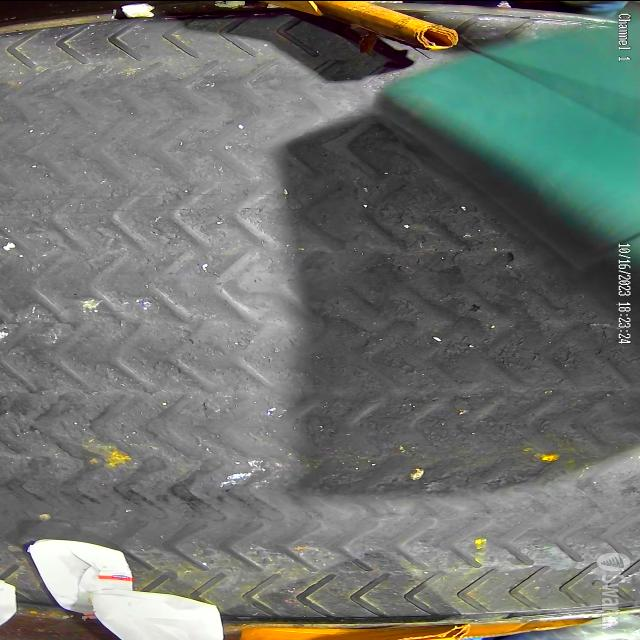milk_jug: (27, 538, 132, 618), (92, 588, 225, 640)
